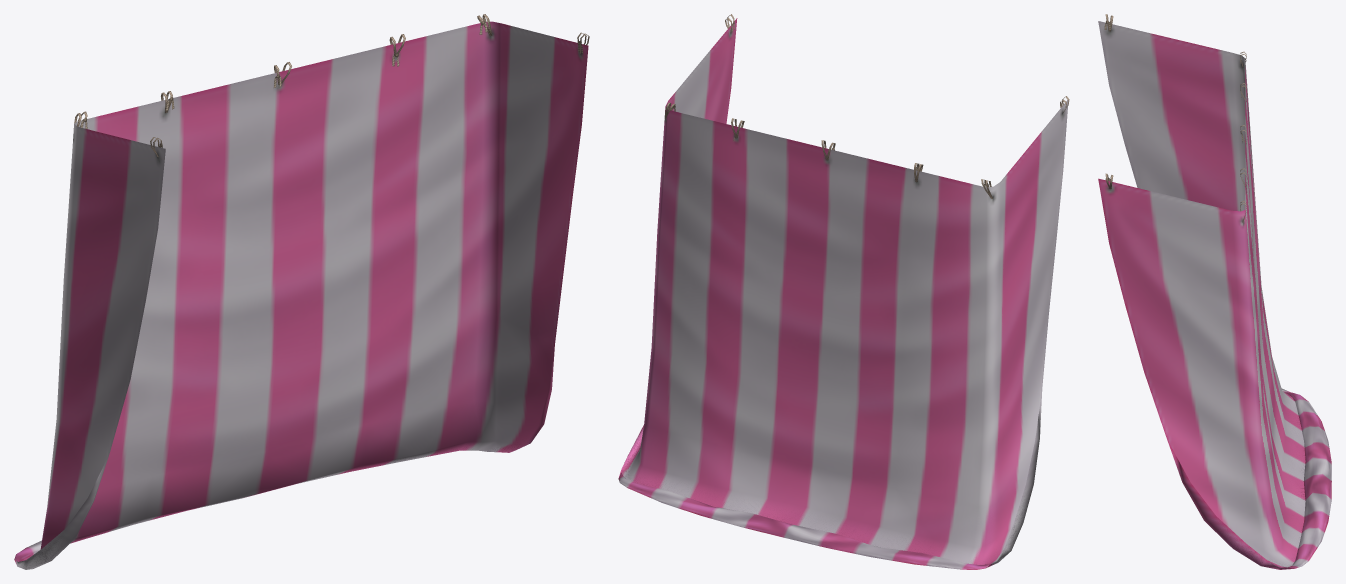
The model's file is jsf_BackSide_s01_c06_t01.fbx.
3 views of the same model, side by side, from view 1: azimuth 30°, elevation 25°; view 2: azimuth 150°, elevation 25°; view 3: azimuth 270°, elevation 25° (orthographic). The views are drawn at different scales.
Parts seen in each view (by area): view 1: jsf_BackSide_s01_c06_t01; view 2: jsf_BackSide_s01_c06_t01; view 3: jsf_BackSide_s01_c06_t01.
Part boxes in pixels (bbox=[...]): jsf_BackSide_s01_c06_t01: bbox=[14, 14, 589, 569]; jsf_BackSide_s01_c06_t01: bbox=[618, 14, 1069, 569]; jsf_BackSide_s01_c06_t01: bbox=[1098, 14, 1331, 569].
Size of the model in its own units: 207 by 205 by 112.
